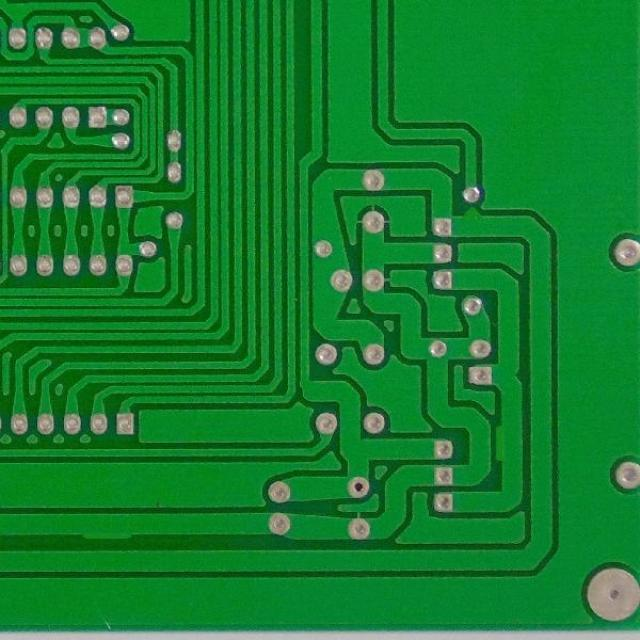Missing_Hole: (346, 477, 368, 499)
Spur: (73, 508, 138, 546), (492, 420, 528, 468), (458, 206, 486, 240)
